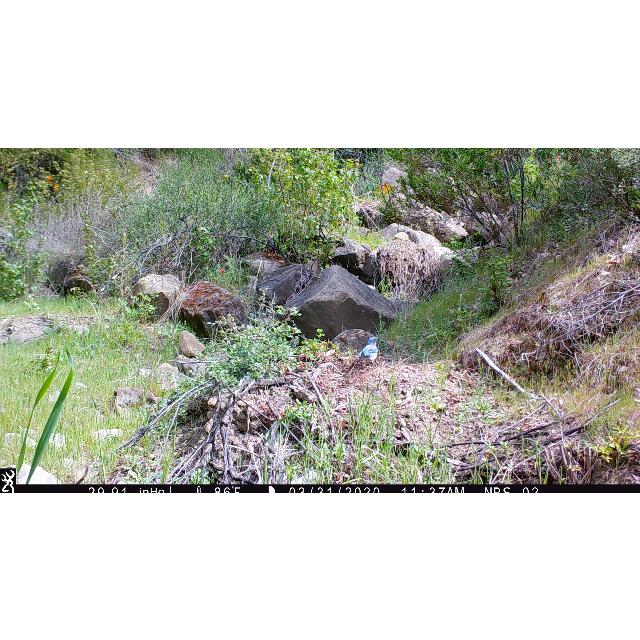animals: (353, 334, 381, 366)
